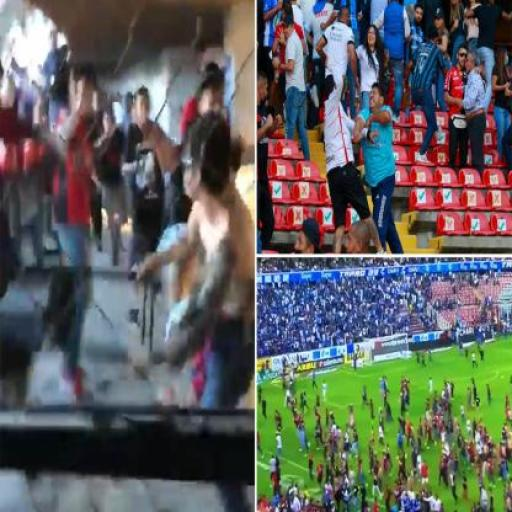Fighting: (1, 0, 255, 512), (288, 70, 420, 252)
